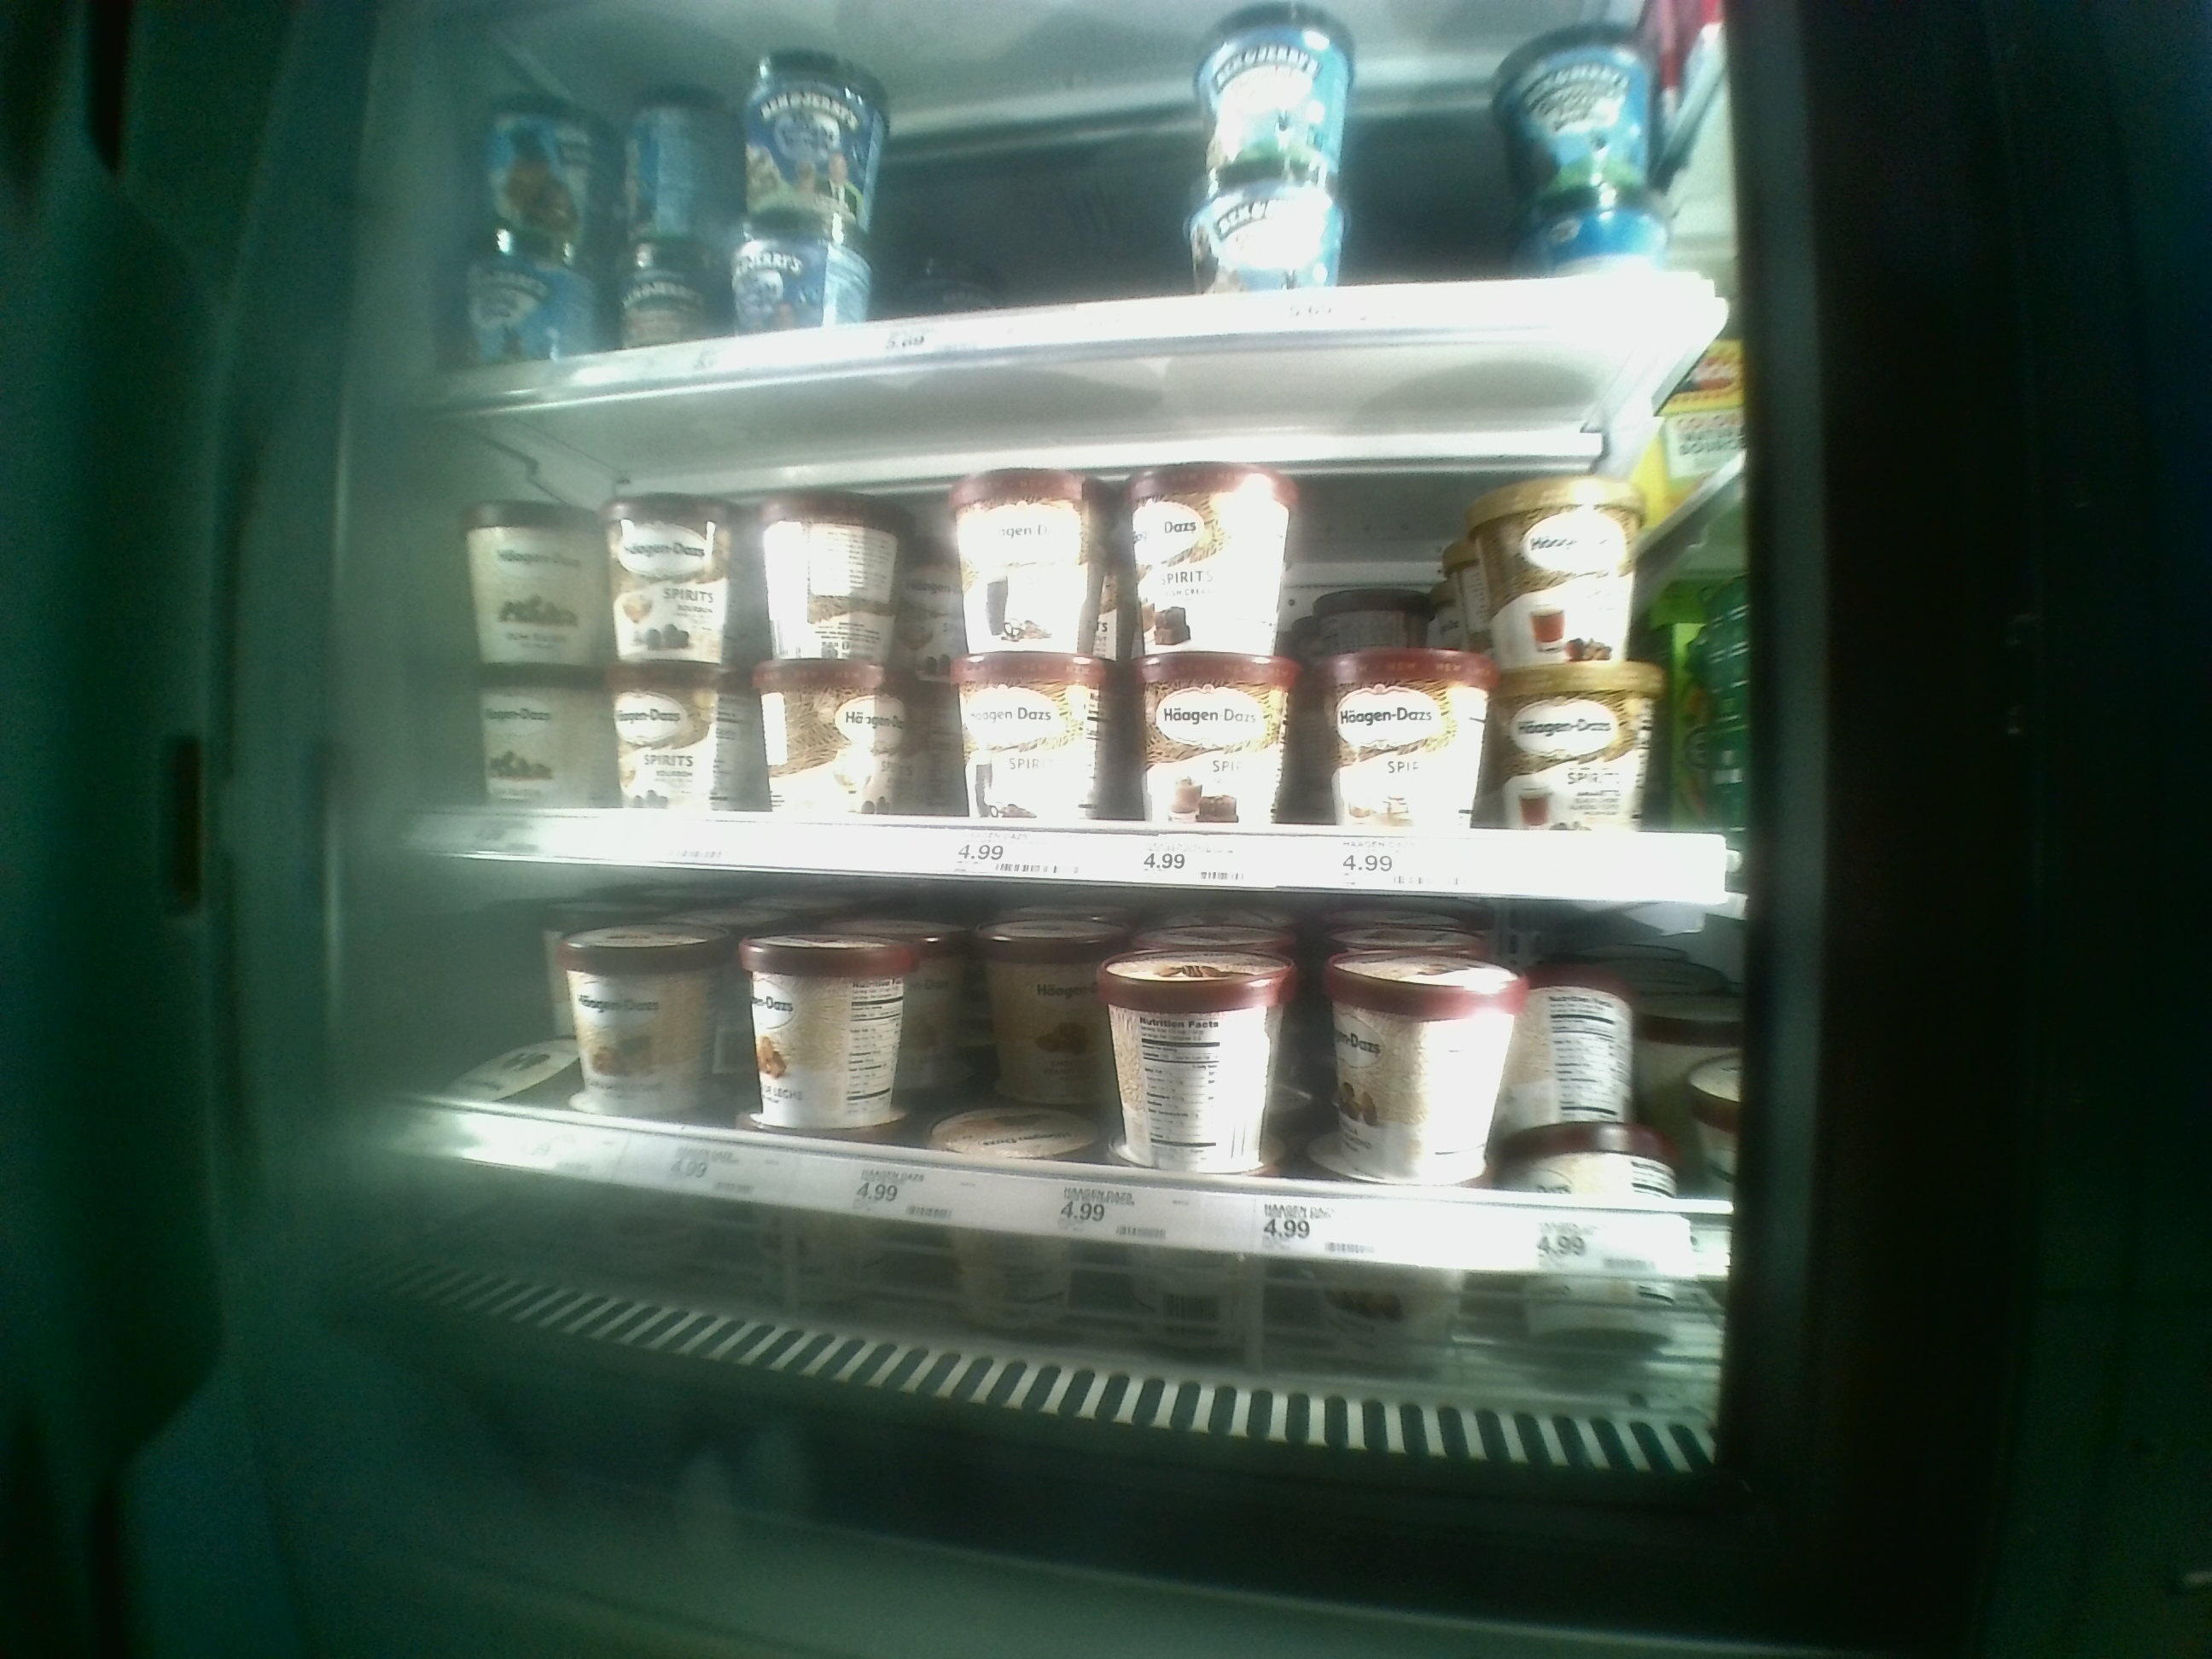shelf: (416, 368, 1743, 870), (416, 870, 1735, 1333)
